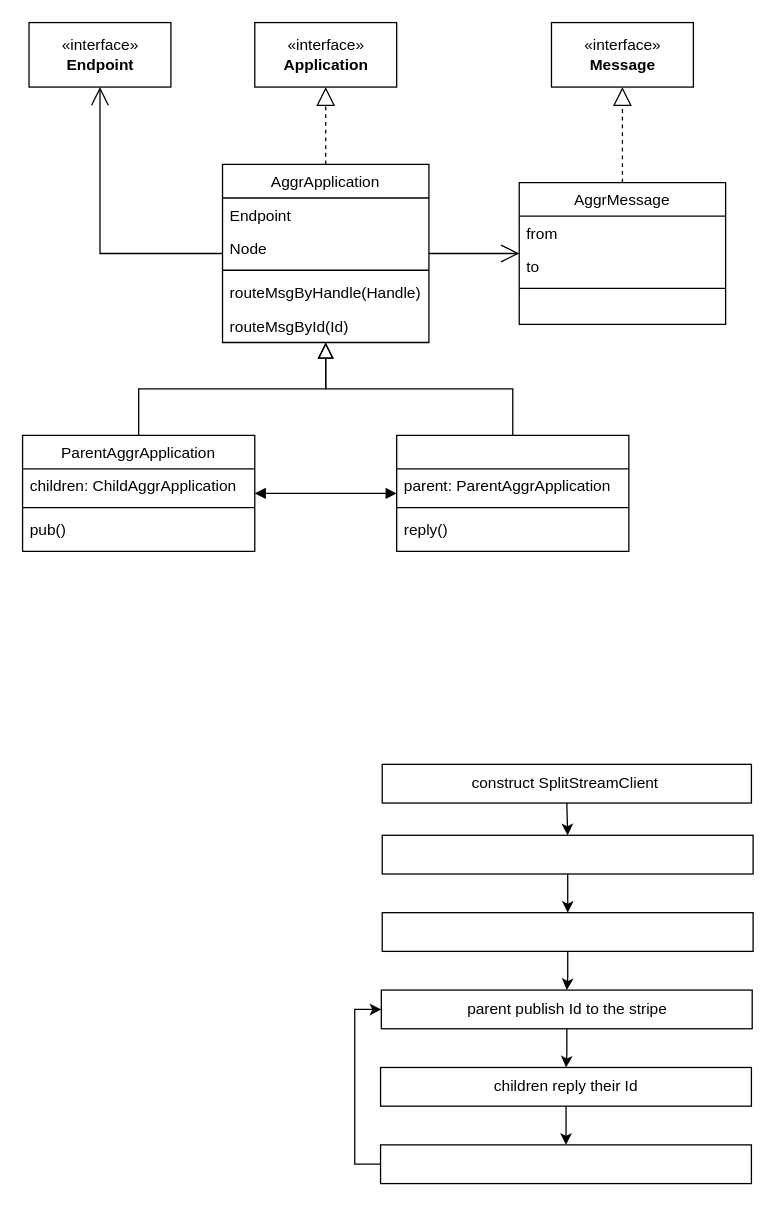
Image size: 777x1206. Some labels were removed from this diagram. The box of each missing label's shape, as (x1, y1, x2, y2) in pixels:
ChildAggrApplication: (395, 434, 629, 551)
new child nodes and subscribe parent: (381, 911, 753, 951)
parent receive children Id and store: (379, 1144, 751, 1184)
set the first node in the SplitStream as parent node: (381, 834, 753, 874)
